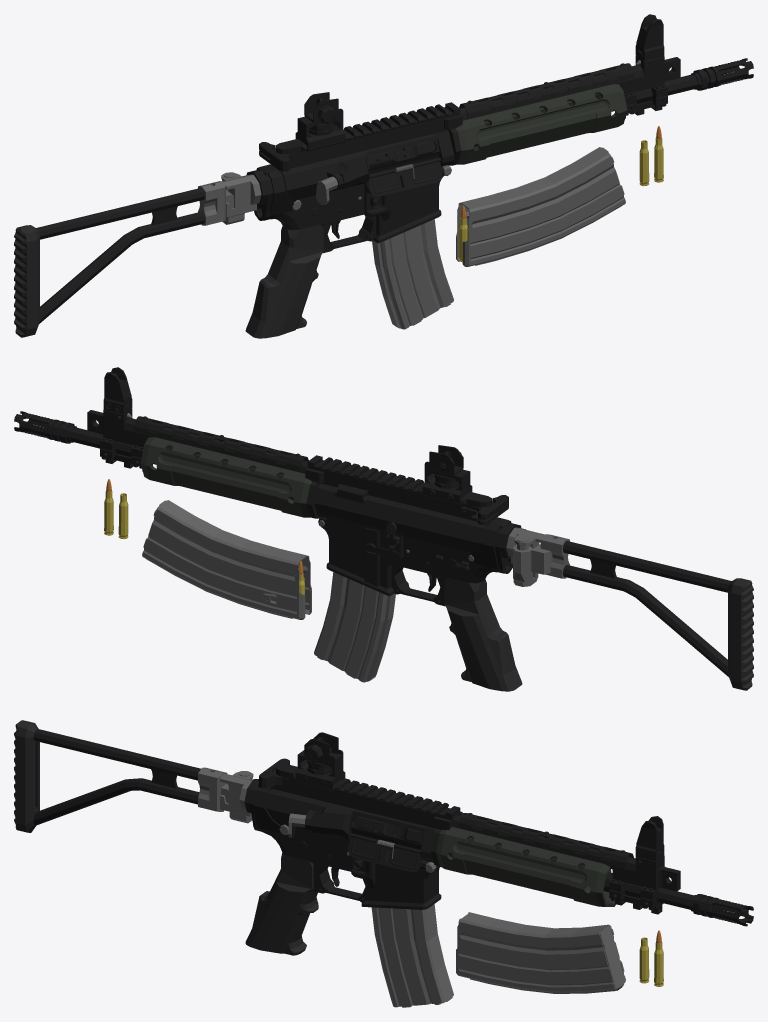
3 renders of one model, top to bottom at view 1: azimuth 30°, elevation 25°; view 2: azimuth 150°, elevation 25°; view 3: azimuth 330°, elevation 25°, orthographic.
Parts seen in each view (by area): view 1: lr300ml handguard_13, 55645 ar15 30rnd mag (steel)_18, lr300ml stock_11, lr300ml upper receiver_9, lr300ml lower receiver_0, 55645 ar15 30rnd mag empty (steel)_19, lr300ml pistol grip_14, lr300ml 11.5 barrel_12, lr300ml rare sight_17, lr300 dust cover_20, lr300ml stock base_10, lr300ml flash hider_15 (+3 smaller); view 2: lr300ml handguard_13, 55645 ar15 30rnd mag (steel)_18, lr300ml stock_11, lr300ml upper receiver_9, lr300ml lower receiver_0, 55645 ar15 30rnd mag empty (steel)_19, lr300ml pistol grip_14, lr300ml 11.5 barrel_12, lr300ml rare sight_17, lr300ml flash hider_15, lr300ml front sight_16, lr300ml stock base_10 (+1 smaller); view 3: lr300ml handguard_13, 55645 ar15 30rnd mag (steel)_18, lr300ml stock_11, lr300ml upper receiver_9, lr300ml lower receiver_0, 55645 ar15 30rnd mag empty (steel)_19, lr300ml pistol grip_14, lr300ml 11.5 barrel_12, lr300ml rare sight_17, lr300 dust cover_20, lr300ml flash hider_15, lr300ml stock base_10 (+3 smaller).
Part boxes in pixels (x1=…): lr300ml handguard_13: x1=444, y1=63, x2=644, y2=165; 55645 ar15 30rnd mag (steel)_18: x1=456, y1=147, x2=625, y2=266; lr300ml stock_11: x1=14, y1=181, x2=233, y2=337; lr300ml upper receiver_9: x1=276, y1=104, x2=454, y2=204; lr300ml lower receiver_0: x1=246, y1=164, x2=451, y2=253; 55645 ar15 30rnd mag empty (steel)_19: x1=372, y1=219, x2=453, y2=329; lr300ml pistol grip_14: x1=245, y1=225, x2=323, y2=338; lr300ml 11.5 barrel_12: x1=474, y1=51, x2=697, y2=147; lr300ml rare sight_17: x1=295, y1=92, x2=345, y2=151; lr300 dust cover_20: x1=368, y1=157, x2=442, y2=196; lr300ml stock base_10: x1=221, y1=172, x2=261, y2=224; lr300ml flash hider_15: x1=691, y1=58, x2=753, y2=90; lr300ml handguard_13: x1=123, y1=416, x2=323, y2=518; 55645 ar15 30rnd mag (steel)_18: x1=142, y1=500, x2=311, y2=619; lr300ml stock_11: x1=513, y1=534, x2=753, y2=690; lr300ml upper receiver_9: x1=314, y1=457, x2=491, y2=552; lr300ml lower receiver_0: x1=318, y1=517, x2=521, y2=606; 55645 ar15 30rnd mag empty (steel)_19: x1=314, y1=572, x2=395, y2=682; lr300ml pistol grip_14: x1=444, y1=578, x2=522, y2=691; lr300ml 11.5 barrel_12: x1=70, y1=404, x2=293, y2=500; lr300ml rare sight_17: x1=422, y1=445, x2=472, y2=504; lr300ml flash hider_15: x1=14, y1=411, x2=76, y2=443; lr300ml front sight_16: x1=103, y1=367, x2=132, y2=414; lr300ml stock base_10: x1=506, y1=527, x2=544, y2=586; lr300ml handguard_13: x1=430, y1=806, x2=635, y2=906; 55645 ar15 30rnd mag (steel)_18: x1=456, y1=912, x2=625, y2=993; lr300ml stock_11: x1=14, y1=720, x2=252, y2=832; lr300ml upper receiver_9: x1=266, y1=764, x2=448, y2=867; lr300ml lower receiver_0: x1=244, y1=779, x2=441, y2=909; 55645 ar15 30rnd mag empty (steel)_19: x1=371, y1=904, x2=453, y2=1007; lr300ml pistol grip_14: x1=245, y1=853, x2=318, y2=955; lr300ml 11.5 barrel_12: x1=449, y1=837, x2=693, y2=914; lr300ml rare sight_17: x1=295, y1=732, x2=345, y2=790; lr300 dust cover_20: x1=348, y1=833, x2=421, y2=872; lr300ml flash hider_15: x1=690, y1=894, x2=753, y2=926; lr300ml stock base_10: x1=220, y1=771, x2=253, y2=823.
Size of the model in its own units: 8.03 by 2.61 by 0.6266.
